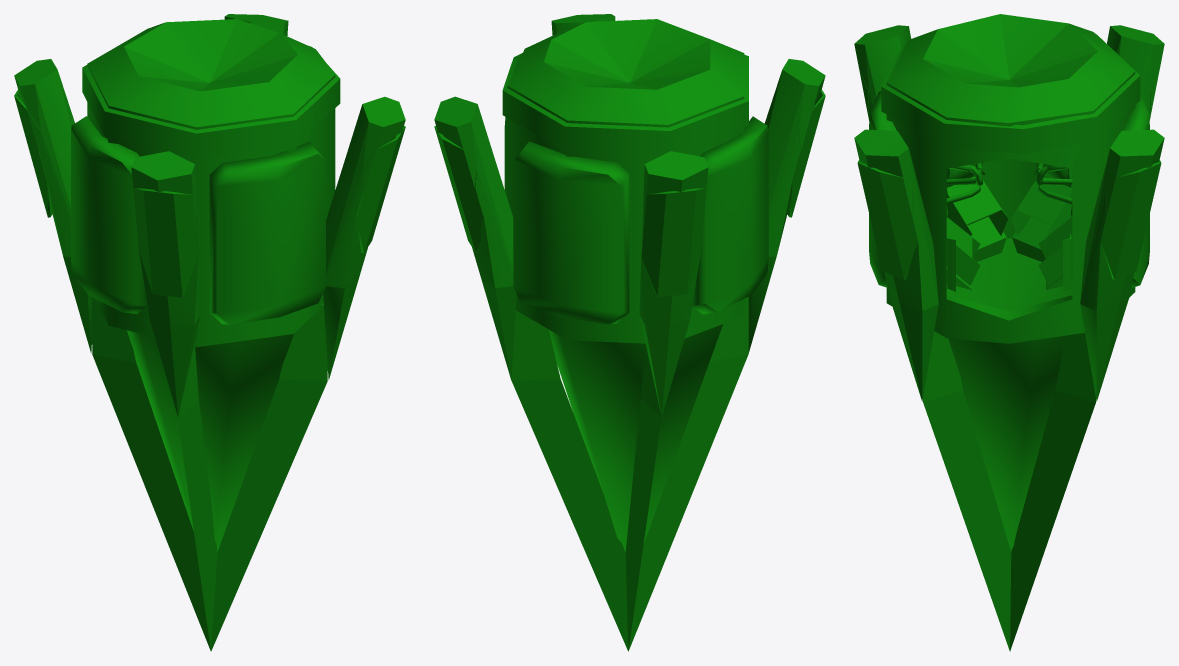
File: mp_droppod_spawn_start.obj
3 renders of one model, left to right at view 1: azimuth 30°, elevation 25°; view 2: azimuth 150°, elevation 25°; view 3: azimuth 270°, elevation 25°, orthographic.
Visible parts, largest first — view 1: droppod_fireteam_v_lod3; view 2: droppod_fireteam_v_lod3; view 3: droppod_fireteam_v_lod3.
Boxes of the visible parts, x1=… form: droppod_fireteam_v_lod3: x1=14, y1=14, x2=405, y2=651; droppod_fireteam_v_lod3: x1=434, y1=14, x2=825, y2=651; droppod_fireteam_v_lod3: x1=854, y1=14, x2=1164, y2=651.
Size of the model in its own units: 123 by 261 by 123.
